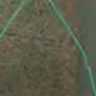hacks_2: (1, 1, 96, 96)
